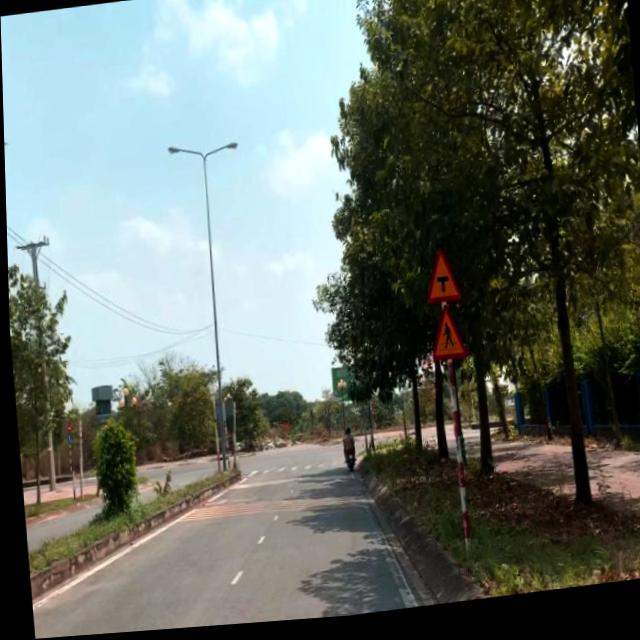Duong giao nhau cung cap: (420, 249, 461, 313)
Nguoi di bo cat ngang: (425, 308, 466, 368)
